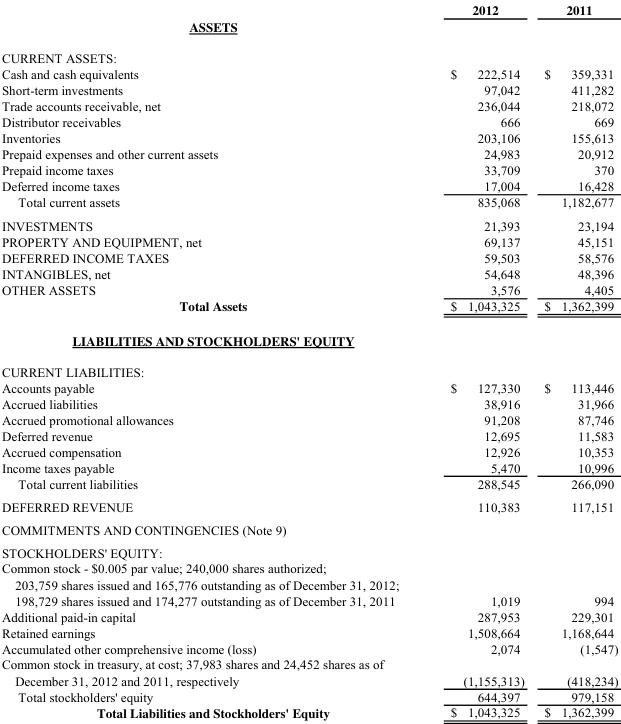table: (0, 0, 617, 720)
table column: (0, 0, 424, 720), (424, 0, 533, 720), (533, 0, 617, 720)
table column header: (0, 0, 617, 18)
table projected row header: (0, 322, 617, 356), (0, 18, 617, 43), (0, 356, 617, 379), (0, 43, 617, 65), (0, 518, 617, 540), (0, 540, 617, 560)
table row: (0, 560, 617, 608), (0, 322, 617, 356), (0, 656, 617, 688), (0, 296, 617, 322), (0, 18, 617, 43), (0, 356, 617, 379), (0, 495, 617, 518), (0, 43, 617, 65), (0, 518, 617, 540), (0, 213, 617, 234), (0, 193, 617, 213), (0, 475, 617, 495), (0, 540, 617, 560), (0, 0, 617, 18), (0, 703, 617, 720), (0, 65, 617, 81), (0, 81, 617, 97), (0, 97, 617, 113), (0, 113, 617, 129), (0, 129, 617, 145), (0, 145, 617, 161), (0, 161, 617, 177), (0, 177, 617, 193), (0, 249, 617, 265), (0, 265, 617, 281), (0, 379, 617, 395), (0, 395, 617, 411), (0, 411, 617, 427), (0, 427, 617, 443), (0, 443, 617, 459), (0, 459, 617, 475), (0, 608, 617, 624), (0, 624, 617, 640), (0, 640, 617, 656), (0, 234, 617, 249), (0, 281, 617, 296), (0, 688, 617, 703)
